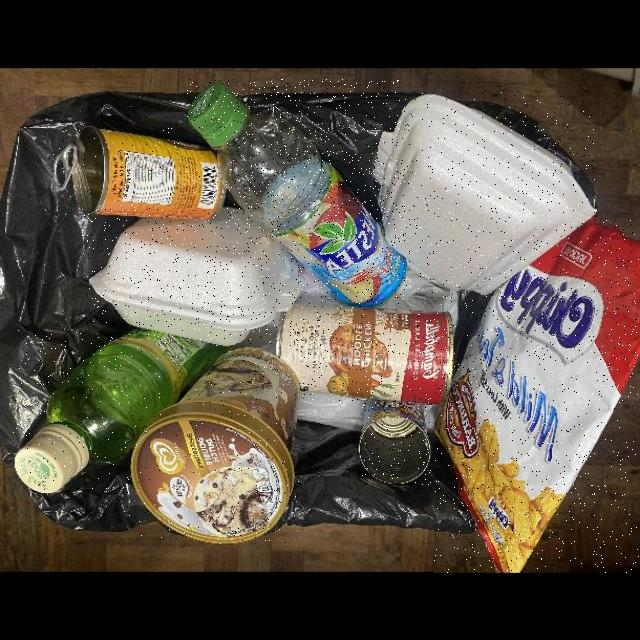metal: (275, 302, 454, 403), (51, 124, 226, 221), (359, 403, 432, 485)
plastic: (186, 79, 405, 308), (14, 328, 224, 491), (130, 349, 300, 546)
styrofoam: (373, 92, 596, 296), (88, 209, 306, 347)
wrapper: (435, 217, 639, 572)
